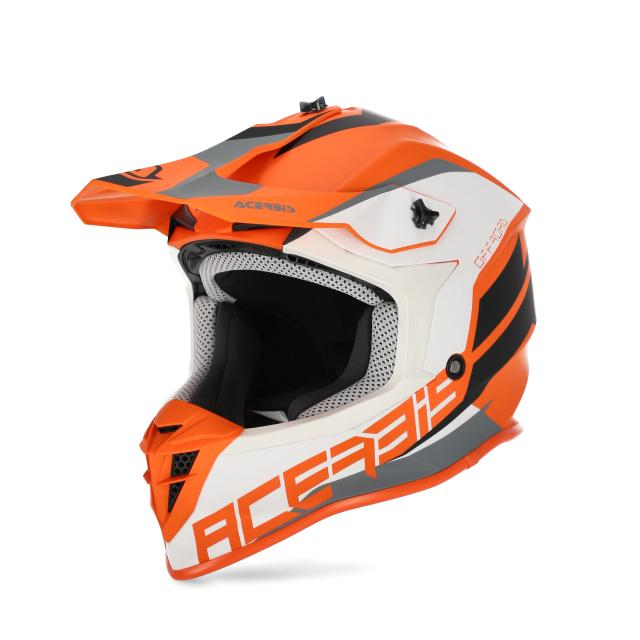Helmet: (75, 77, 535, 587)
